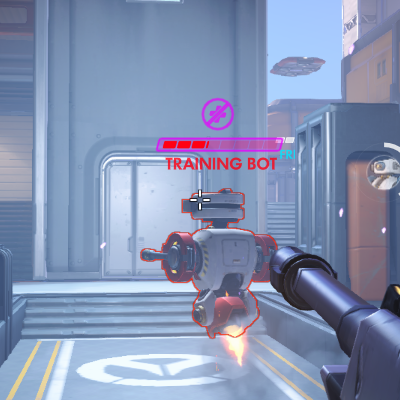hpbar: (162, 140, 278, 149)
